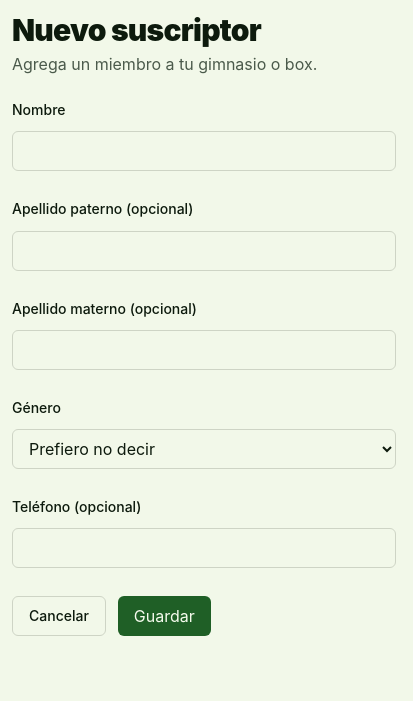
Test: NewSubscriberPage › shows a save error when the database is not ready
Type "Ana Torres" into the field labelled "Nombre" at (204, 151), box [12,131,396,171]
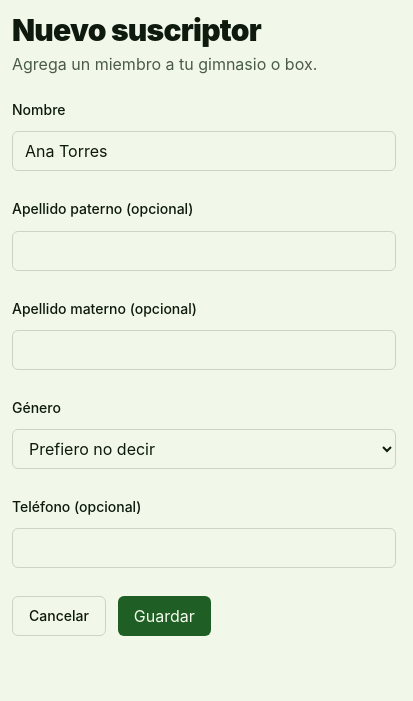
Click the button "Guardar" at (164, 616), box [118,596,211,636]
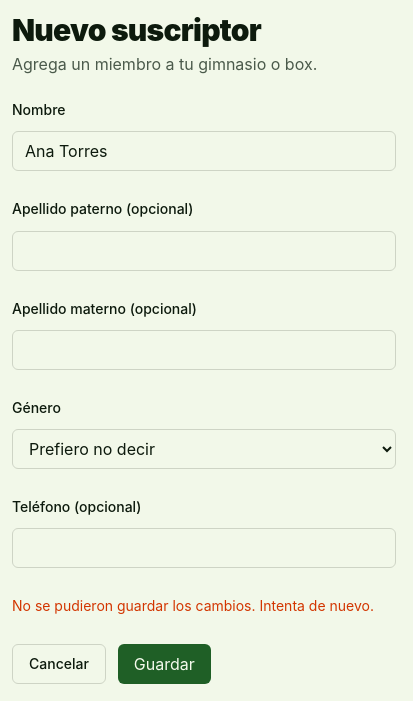
Check: the button "Guardar" is enabled, box [118,644,211,684]
Check: the text "No se pudieron guardar los cambios. Intenta de nuevo." is shown, box [12,596,396,616]
